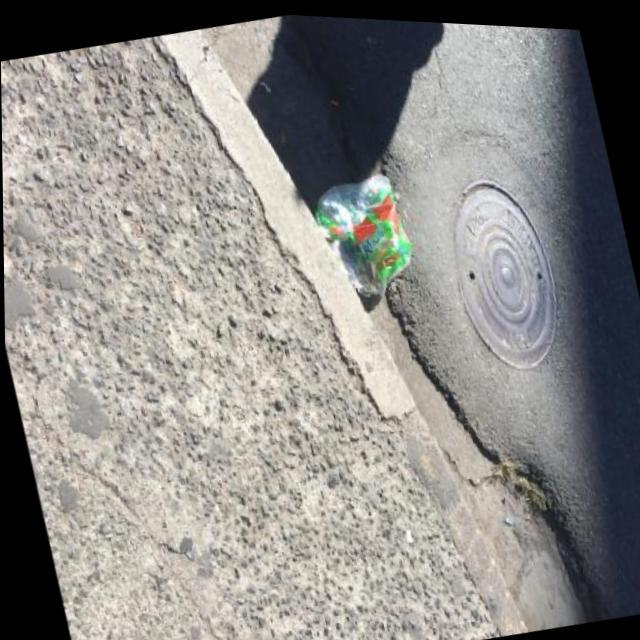plastic: (306, 166, 420, 308)
